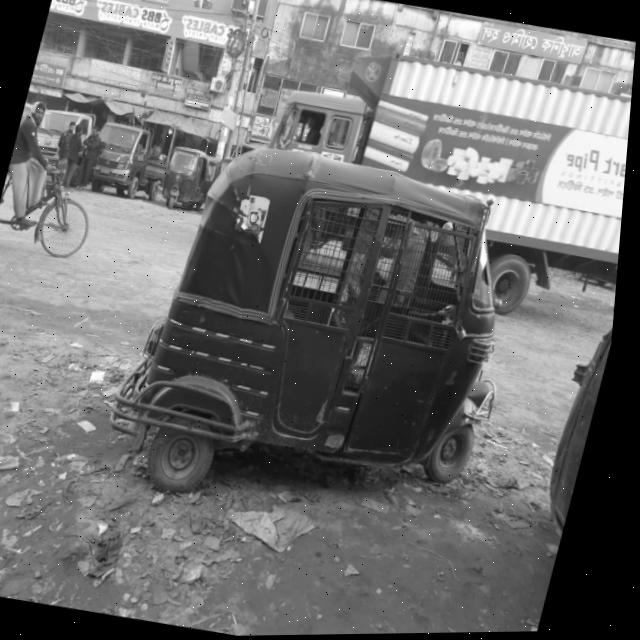cng: (90, 108, 580, 569)
